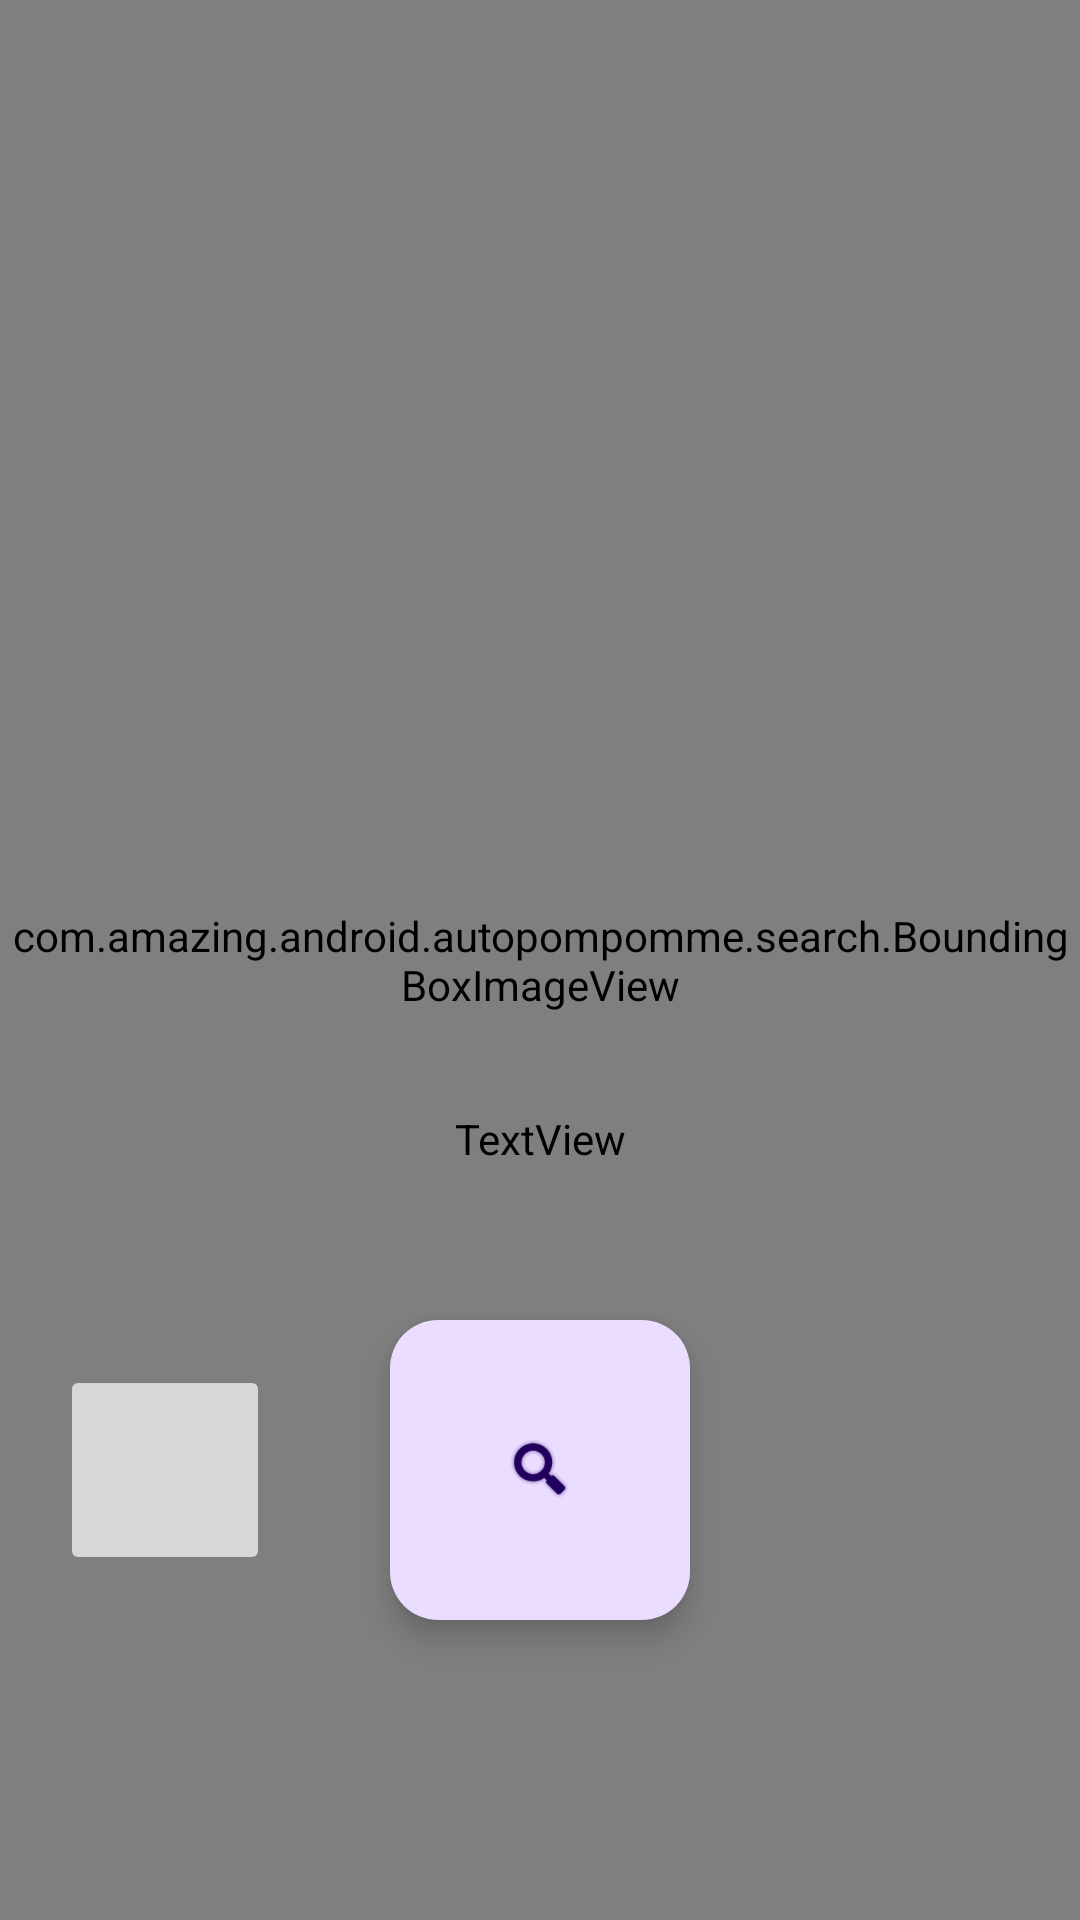

Named icons in this screenshot (1080×1920) and their centers, point (x, y):
search category: point (540, 1470)
